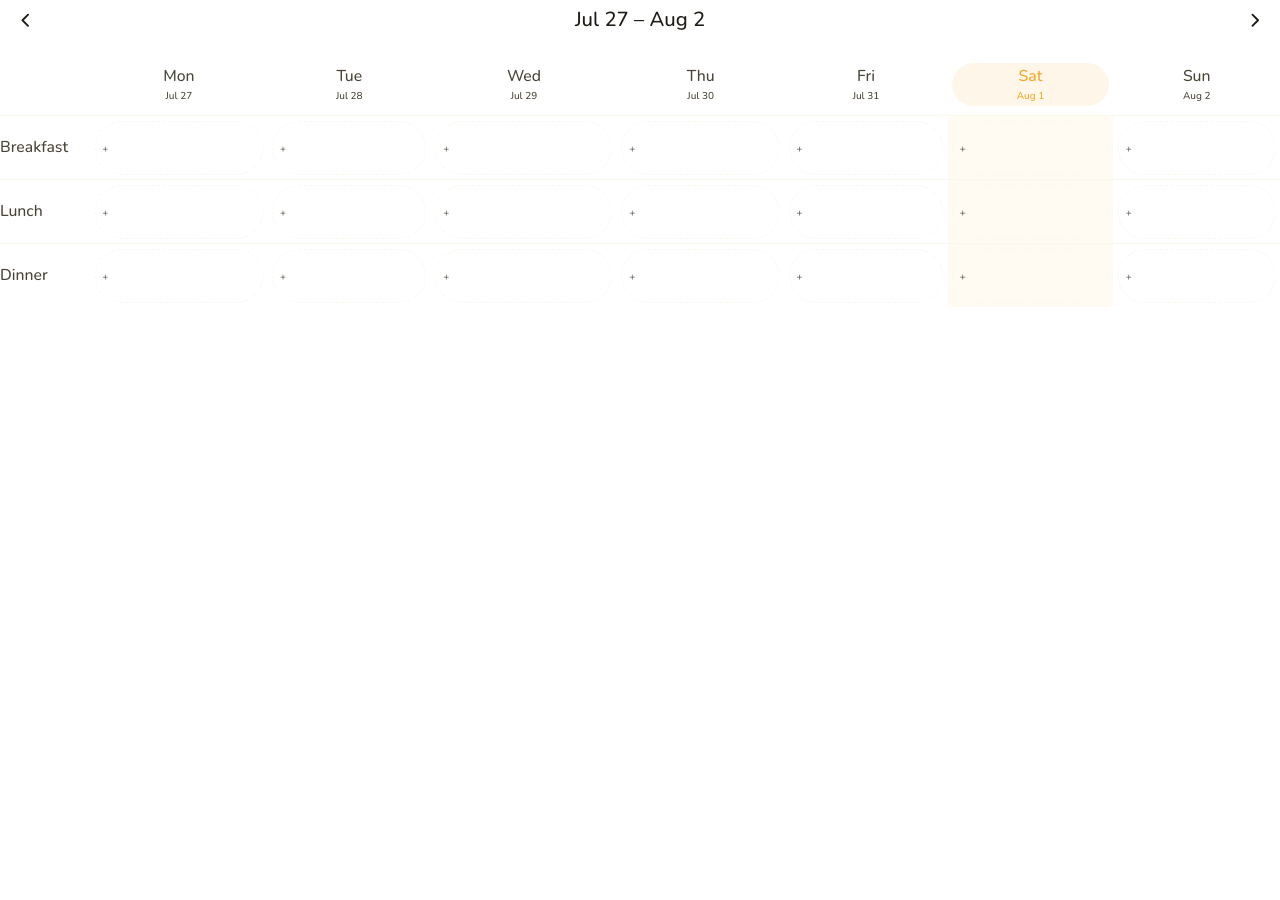
Scenario: MealPlanner › clicking an empty slot shows editor options
The width and height of the screenshot is (1280, 900).
Click the 1st button "+" at coordinates (179, 148), box [94,121,263,175]
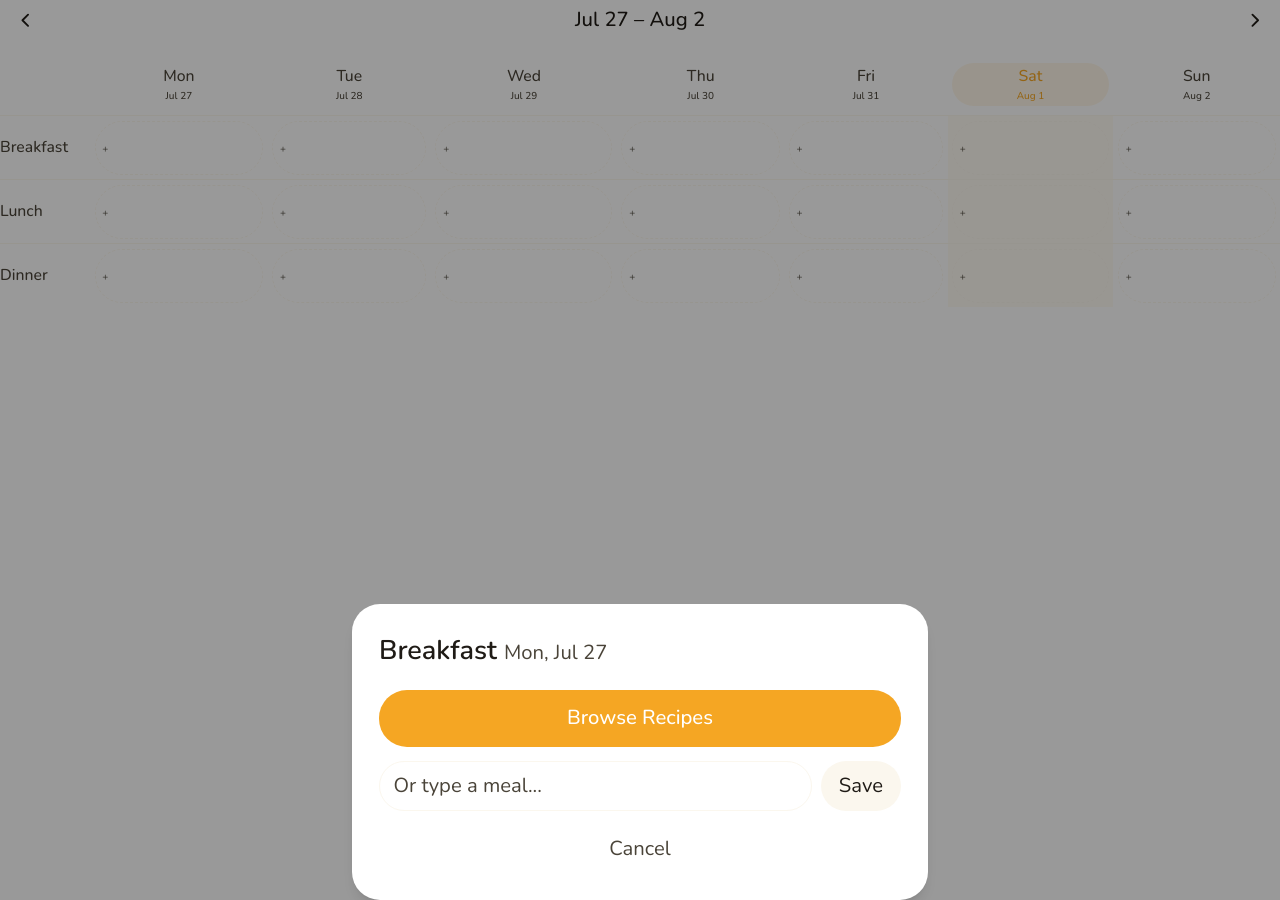
Now the dialog with test id "slot-editor" is shown
Now the button with test id "browse-recipes-btn" is shown, box [379,690,901,747]
Now the field with test id "free-text-input" is shown, box [379,761,812,811]
